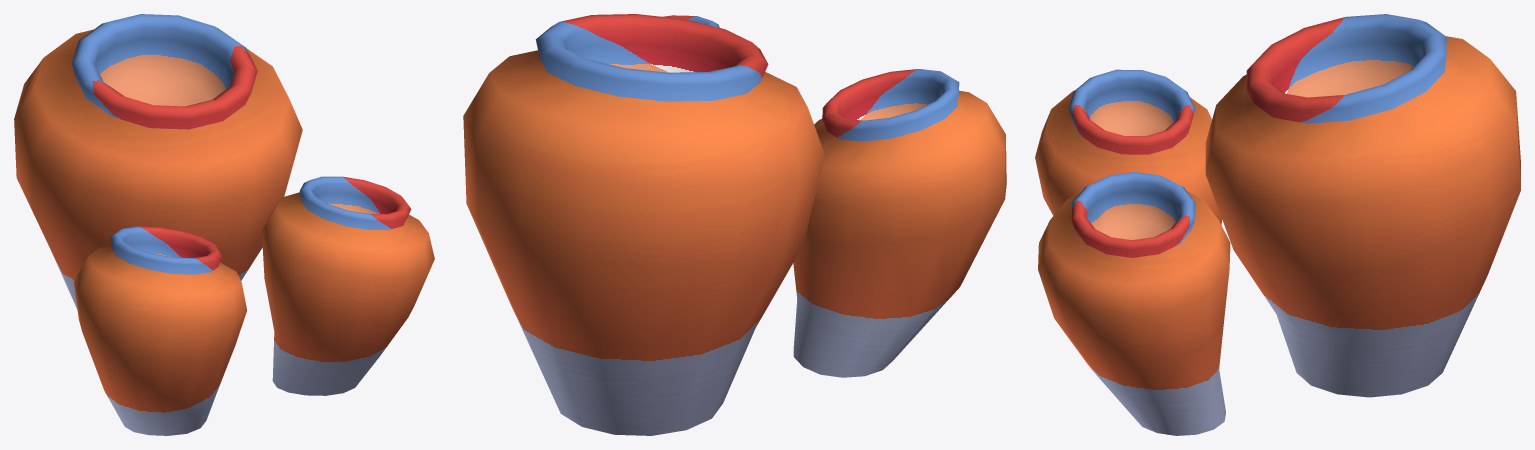
File: D_CoralReef.140.glb
The picture shows the model from 3 angles, left to right: view 1: azimuth 30°, elevation 25°; view 2: azimuth 150°, elevation 25°; view 3: azimuth 270°, elevation 25°; orthographic projection. The views are drawn at different scales.
Parts seen in each view (by area): view 1: D_CoralReef.140; view 2: D_CoralReef.140; view 3: D_CoralReef.140.
Part boxes in pixels (<box>): D_CoralReef.140: <box>14,14,434,435</box>; D_CoralReef.140: <box>463,14,1006,435</box>; D_CoralReef.140: <box>1035,14,1520,435</box>.
Size of the model in its own units: 0.4927 by 0.4163 by 0.5493.
Materials: 1 (1 with a texture image).
